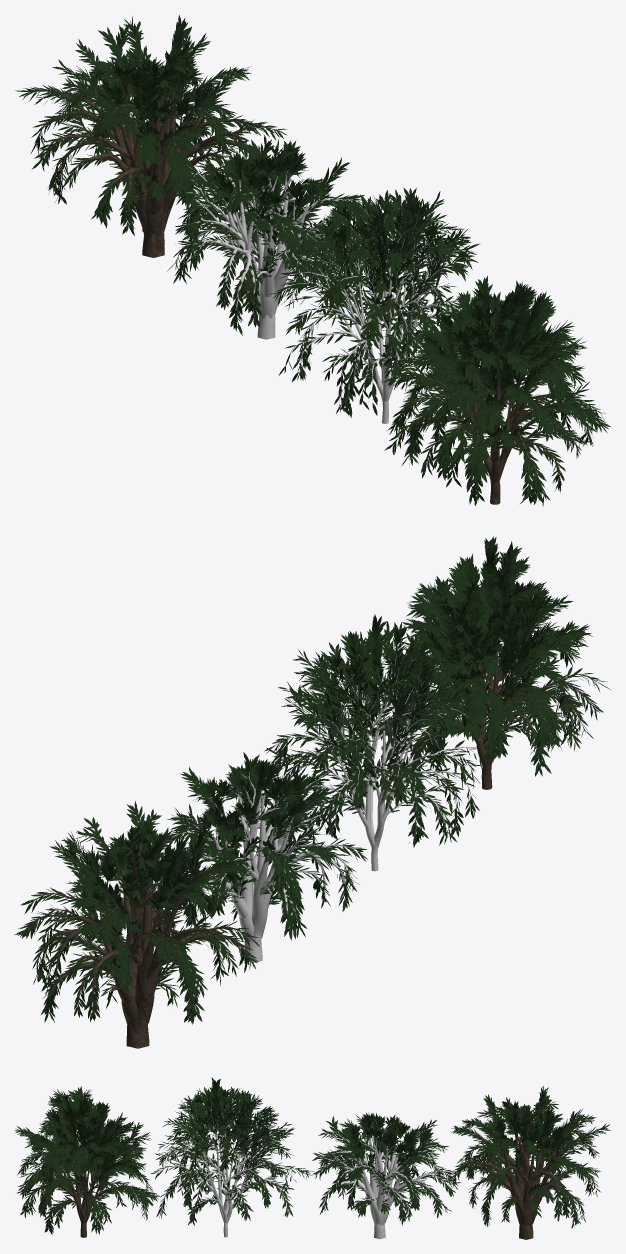
Rendered from arvores.fbx.
The picture shows the model from 3 angles, top to bottom: view 1: azimuth 30°, elevation 25°; view 2: azimuth 150°, elevation 25°; view 3: azimuth 270°, elevation 25°; orthographic projection. The views are drawn at different scales.
Parts seen in each view (by area): view 1: leaves, leaves.003, leaves.001, leaves.002, tree.003, tree.002, tree.001, tree; view 2: leaves, leaves.001, leaves.003, leaves.002, tree.003, tree.002, tree.001, tree; view 3: leaves, leaves.001, leaves.003, leaves.002, tree.003, tree.002, tree.001, tree.
Part boxes in pixels (x1,y1,x2,y2): leaves: [382, 276, 611, 506]; leaves.003: [15, 15, 286, 235]; leaves.001: [269, 187, 480, 417]; leaves.002: [167, 135, 364, 335]; tree.003: [29, 28, 273, 257]; tree.002: [176, 153, 350, 339]; tree.001: [283, 205, 470, 423]; tree: [396, 299, 594, 504]; leaves: [374, 536, 610, 780]; leaves.001: [264, 614, 488, 847]; leaves.003: [14, 801, 259, 1024]; leaves.002: [152, 752, 367, 940]; tree.003: [32, 831, 247, 1048]; tree.002: [152, 772, 356, 962]; tree.001: [275, 646, 479, 871]; tree: [408, 567, 592, 789]; leaves: [15, 1086, 159, 1234]; leaves.001: [150, 1077, 314, 1225]; leaves.003: [447, 1086, 611, 1228]; leaves.002: [312, 1112, 460, 1225]; tree.003: [459, 1102, 598, 1239]; tree.002: [321, 1120, 452, 1239]; tree.001: [161, 1096, 303, 1237]; tree: [25, 1097, 150, 1237].
Size of the model in its own units: 656 by 691 by 2421.
